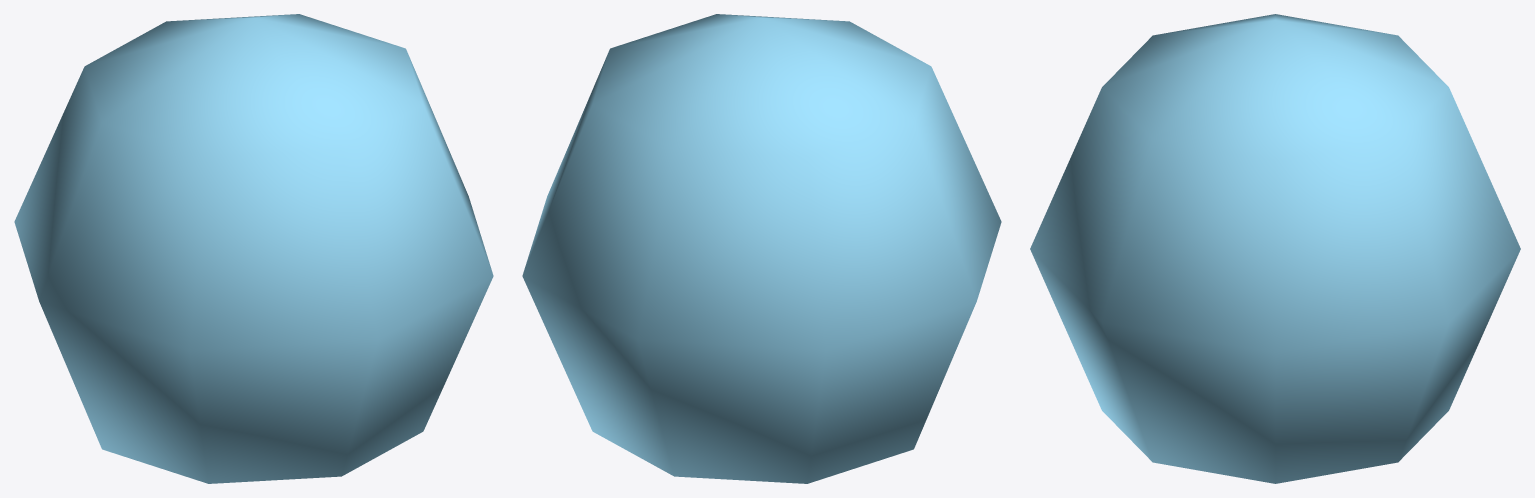
File: Particle_Dash.obj
The picture shows the model from 3 angles, left to right: view 1: azimuth 30°, elevation 25°; view 2: azimuth 150°, elevation 25°; view 3: azimuth 270°, elevation 25°; orthographic projection.
Parts seen in each view (by area): view 1: 球; view 2: 球; view 3: 球.
Part boxes in pixels (left/top/right/bottom): 球: left=14, top=14, right=493, bottom=483; 球: left=522, top=14, right=1001, bottom=483; 球: left=1030, top=14, right=1520, bottom=483.
Size of the model in its own units: 2 by 2.06 by 2.
1 material, 1 textured.
